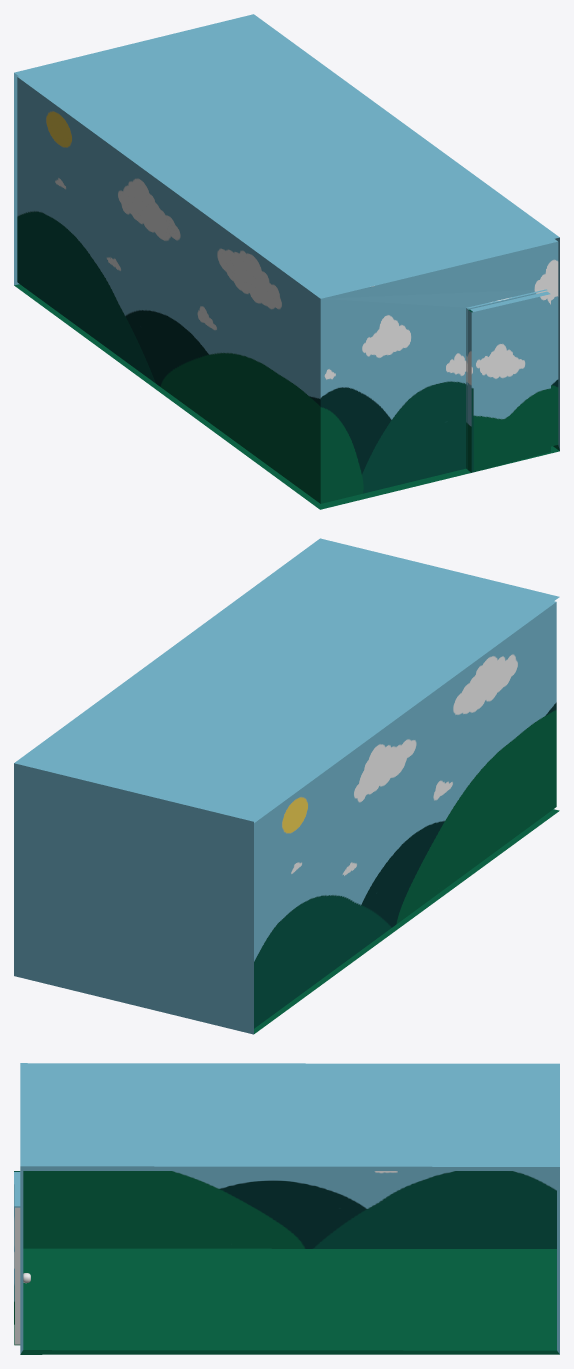
File: PlayRoom.fbx
3 views of the same model, one above another, from view 1: azimuth 30°, elevation 25°; view 2: azimuth 150°, elevation 25°; view 3: azimuth 270°, elevation 25° (orthographic). The views are drawn at different scales.
Visible parts, largest first — view 1: Cube.001; view 2: Cube.001; view 3: Cube.001, Cube.009.
Boxes of the visible parts, left/top/right/bottom form: Cube.001: left=14, top=14, right=559, bottom=509; Cube.001: left=14, top=538, right=559, bottom=1034; Cube.001: left=14, top=1063, right=559, bottom=1354; Cube.009: left=15, top=1207, right=30, bottom=1344.
Size of the model in its own units: 200 by 170 by 446.
